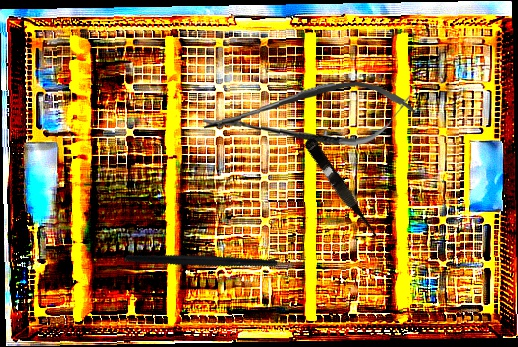Chopper: (124, 191, 307, 324)
Micro Scissor: (201, 75, 415, 155), (300, 136, 384, 245)
